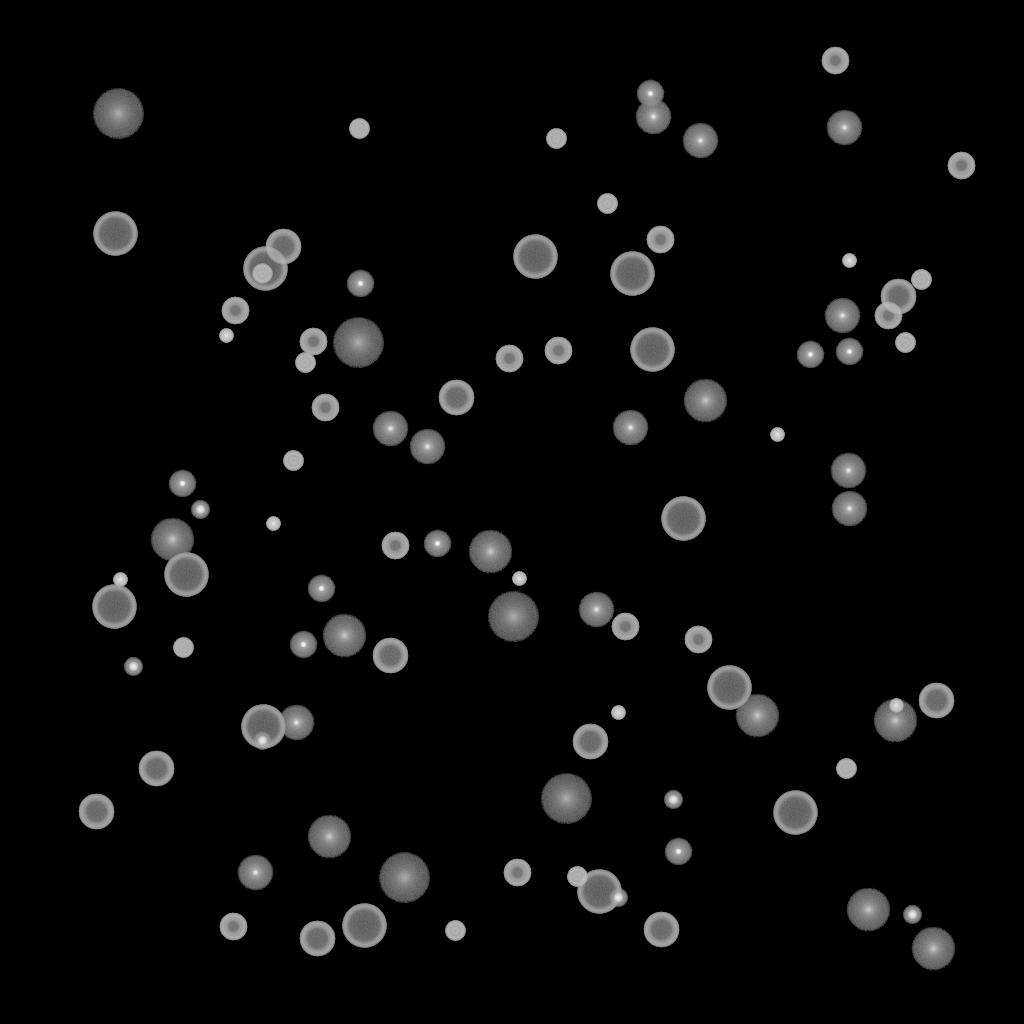depth:-10: (289, 631, 317, 659), (636, 80, 664, 108), (346, 270, 374, 298), (835, 338, 863, 366), (664, 838, 692, 866), (168, 470, 196, 498), (423, 530, 451, 558), (307, 575, 335, 603), (796, 341, 824, 369)
depth:-20: (664, 791, 682, 809), (903, 906, 921, 924), (253, 732, 271, 750), (609, 889, 627, 907), (191, 501, 209, 519), (124, 658, 142, 676)
depth:-30: (842, 254, 856, 268), (770, 428, 784, 442), (889, 699, 903, 713), (219, 329, 233, 343), (611, 706, 625, 720), (113, 573, 127, 587), (266, 517, 280, 531), (512, 572, 526, 586)
depth:-40: (836, 759, 856, 779), (445, 921, 465, 941), (283, 451, 303, 471), (546, 129, 566, 149), (911, 270, 931, 290), (895, 333, 915, 353), (349, 119, 369, 139), (252, 264, 272, 284), (173, 638, 193, 658), (295, 353, 315, 373), (597, 194, 617, 214), (567, 867, 587, 887)
depth:-50: (544, 337, 572, 365), (221, 297, 249, 325), (821, 47, 849, 75), (299, 328, 327, 356), (646, 226, 674, 254), (611, 613, 639, 641), (684, 626, 712, 654), (219, 913, 247, 941), (947, 152, 975, 180), (311, 394, 339, 422), (381, 532, 409, 560), (874, 302, 902, 330), (495, 345, 523, 373), (503, 859, 531, 887)
depth:-60: (643, 912, 679, 948), (299, 921, 335, 957), (880, 279, 916, 315), (918, 683, 954, 719), (78, 794, 114, 830), (572, 724, 608, 760), (438, 380, 474, 416), (372, 638, 408, 674), (265, 229, 301, 265), (138, 751, 174, 787)
depth:-70: (513, 235, 557, 279), (707, 666, 751, 710), (577, 870, 621, 914), (661, 497, 705, 541), (164, 553, 208, 597), (630, 328, 674, 372), (92, 585, 136, 629), (610, 252, 654, 296), (342, 904, 386, 948), (243, 247, 287, 291), (93, 212, 137, 256), (773, 791, 817, 835), (241, 705, 285, 749)
depth:0: (682, 123, 718, 159), (612, 410, 648, 446), (278, 705, 314, 741), (830, 453, 866, 489), (826, 110, 862, 146), (372, 411, 408, 447), (237, 855, 273, 891), (578, 592, 614, 628), (409, 429, 445, 465), (635, 99, 671, 135), (824, 298, 860, 334), (831, 491, 867, 527)
depth:10: (735, 694, 779, 738), (468, 530, 512, 574), (322, 614, 366, 658), (683, 379, 727, 423), (873, 699, 917, 743), (846, 888, 890, 932), (911, 927, 955, 971), (150, 518, 194, 562), (307, 815, 351, 859)
depth:20: (332, 318, 384, 368), (92, 89, 144, 139), (378, 853, 430, 903), (540, 774, 592, 824), (487, 592, 539, 642)
